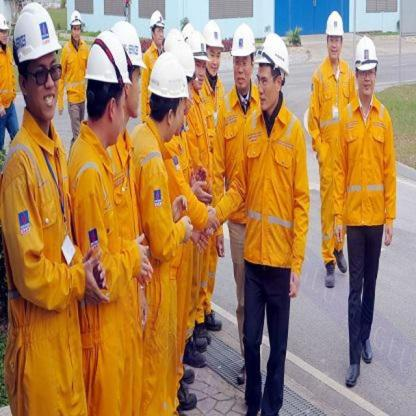bota: (179, 343, 210, 369), (174, 379, 198, 410), (184, 330, 209, 354), (198, 309, 224, 331), (190, 320, 213, 344), (331, 245, 348, 274), (344, 361, 361, 387), (359, 336, 375, 363), (323, 258, 337, 288), (236, 356, 250, 386), (178, 365, 195, 383)
capacete: (12, 3, 71, 122), (82, 32, 127, 145), (145, 54, 190, 148), (109, 18, 144, 128), (256, 28, 290, 120), (183, 23, 212, 93), (230, 21, 256, 99), (197, 18, 227, 84), (164, 30, 198, 88), (355, 38, 381, 101), (321, 6, 347, 66), (144, 9, 170, 48), (65, 12, 87, 46), (1, 13, 12, 52)
oculos: (250, 68, 273, 95), (232, 56, 255, 72), (354, 71, 382, 84)
